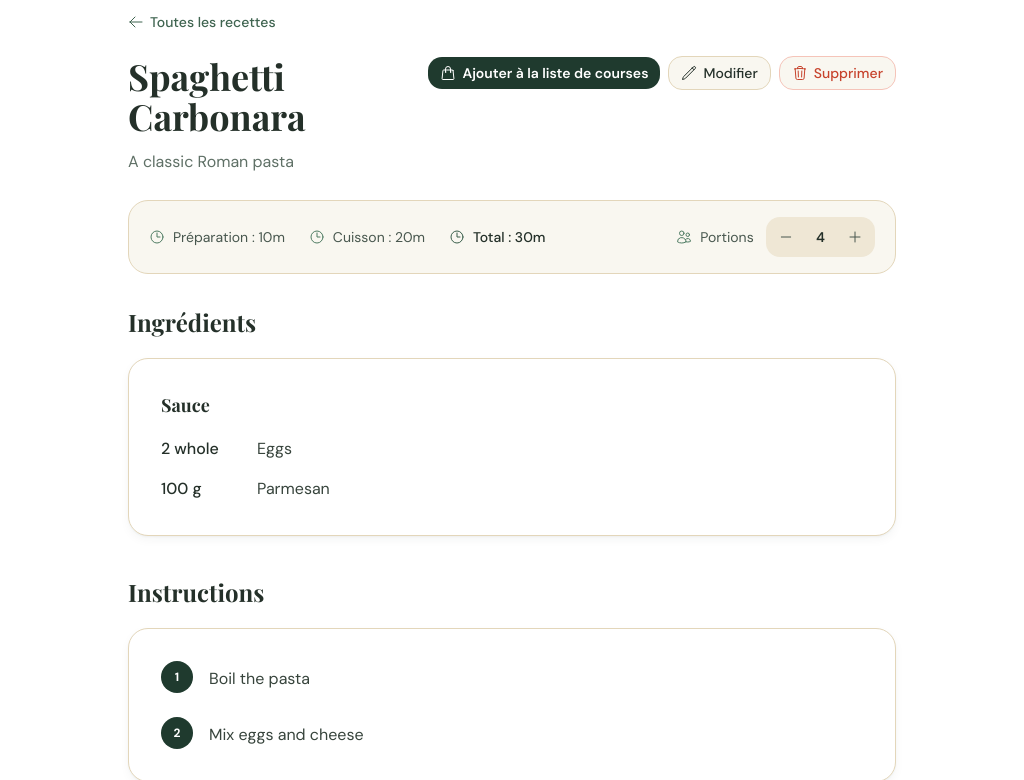
Test: RecipeDetailPage › scales ingredient quantities when servings change
Expected: the heading "Spaghetti Carbonara" is shown, [128,52,306,140]
Expected: the text "2 whole" is shown, [161,438,219,459]
Click the button named "augmenter les portions": (855, 237) [839,221,871,253]
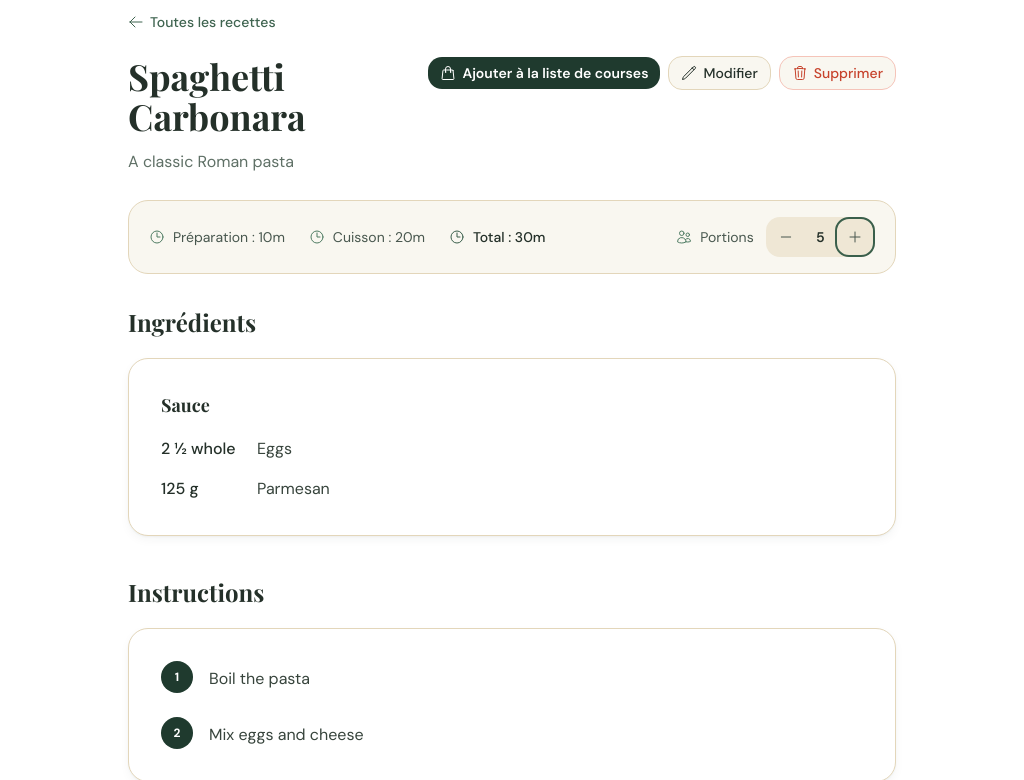
Expected: the text "2 ½ whole" is shown, [161,435,241,463]
Expected: the text "5" is shown, [816,228,825,246]
